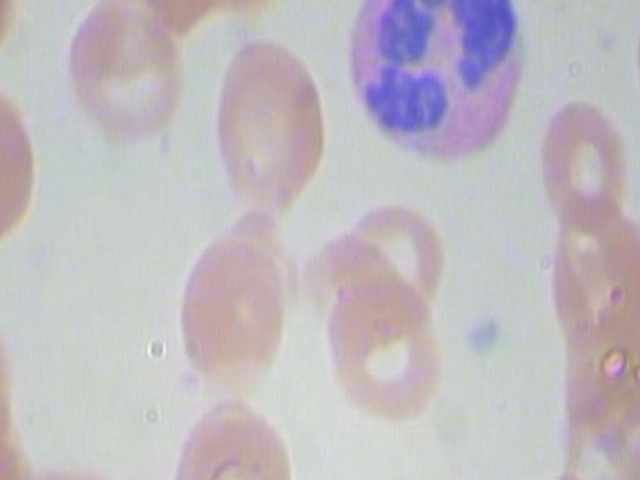Platelets: (462, 295, 511, 369)
RBC: (202, 28, 336, 209), (167, 222, 301, 403), (317, 259, 446, 430), (68, 0, 203, 163), (536, 188, 640, 360), (527, 86, 634, 230), (300, 225, 418, 349), (339, 186, 456, 311), (159, 402, 313, 480), (0, 79, 55, 254), (104, 0, 257, 26), (0, 388, 39, 480), (458, 477, 595, 480)
WBC: (329, 0, 551, 169)
